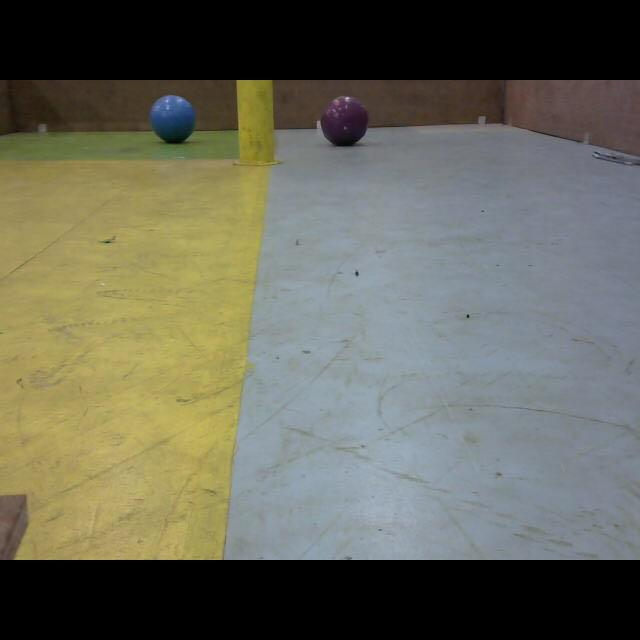B: (150, 95, 198, 143)
P: (320, 95, 370, 147)
